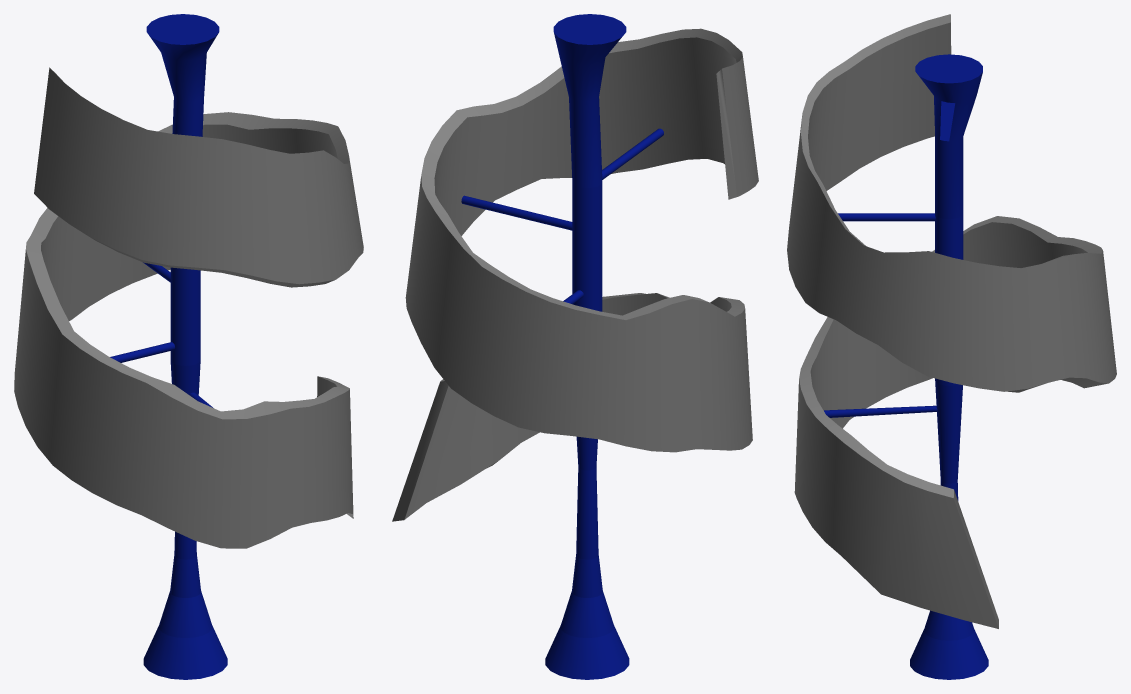
The model's file is SM_Mill02.fbx.
3 views of the same model, side by side, from view 1: azimuth 30°, elevation 25°; view 2: azimuth 150°, elevation 25°; view 3: azimuth 270°, elevation 25° (orthographic). The views are drawn at different scales.
Visible parts, largest first — view 1: Mill02_Cylinder039; view 2: Mill02_Cylinder039; view 3: Mill02_Cylinder039.
Boxes of the visible parts, x1=… form: Mill02_Cylinder039: x1=14, y1=14, x2=363, y2=679; Mill02_Cylinder039: x1=392, y1=14, x2=758, y2=679; Mill02_Cylinder039: x1=787, y1=14, x2=1116, y2=679.
Bounding box in the file's own units: 138 × 262 × 132.
